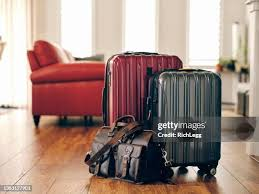suitcase: (148, 68, 222, 176), (103, 52, 184, 130)
